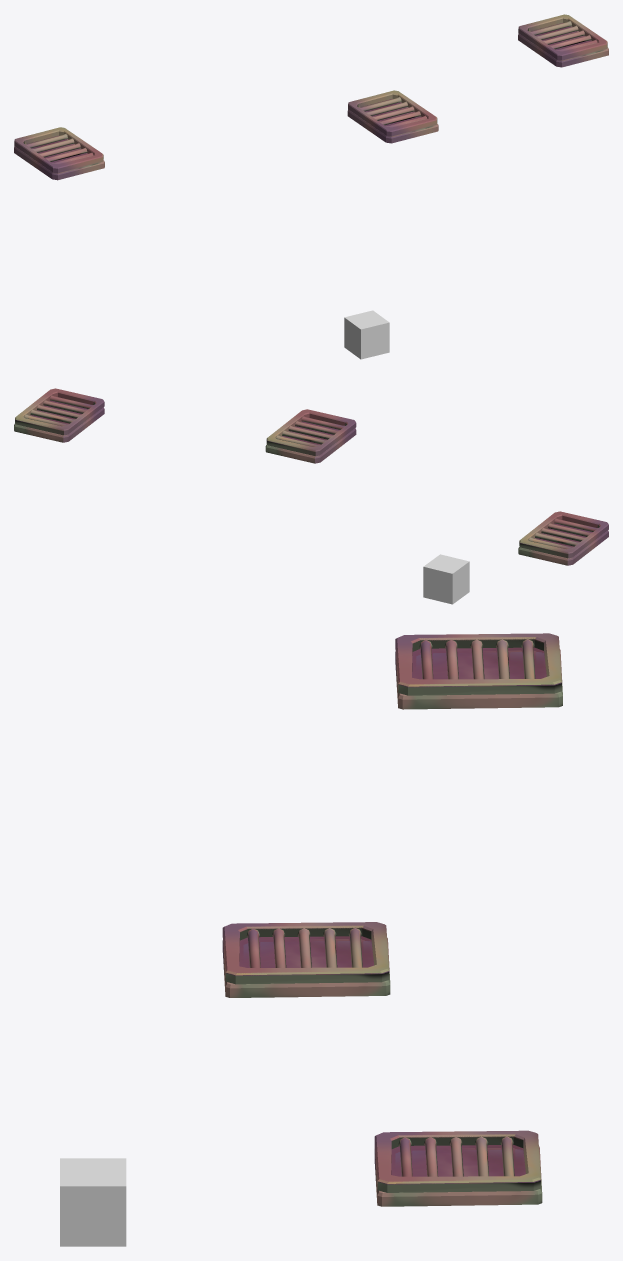
The model's file is battlescence-3-floor003.fbx.
3 views of the same model, one above another, from view 1: azimuth 30°, elevation 25°; view 2: azimuth 150°, elevation 25°; view 3: azimuth 270°, elevation 25° (orthographic). The views are drawn at different scales.
Visible parts, largest first — view 1: Cylinder.003, Cylinder.016, Cylinder.017, battlescence-3-floor003; view 2: Cylinder.003, Cylinder.016, Cylinder.017, battlescence-3-floor003; view 3: Cylinder.016, Cylinder.017, Cylinder.003, battlescence-3-floor003.
Part boxes in pixels (x1=…): Cylinder.003: x1=347, y1=90, x2=438, y2=143; Cylinder.016: x1=14, y1=127, x2=104, y2=180; Cylinder.017: x1=518, y1=14, x2=608, y2=67; battlescence-3-floor003: x1=344, y1=310, x2=389, y2=359; Cylinder.003: x1=265, y1=409, x2=356, y2=463; Cylinder.016: x1=518, y1=511, x2=608, y2=565; Cylinder.017: x1=14, y1=388, x2=104, y2=442; battlescence-3-floor003: x1=423, y1=554, x2=469, y2=604; Cylinder.016: x1=395, y1=633, x2=562, y2=709; Cylinder.017: x1=374, y1=1130, x2=542, y2=1206; Cylinder.003: x1=222, y1=922, x2=390, y2=997; battlescence-3-floor003: x1=60, y1=1158, x2=126, y2=1246.
Bounding box in the file's own units: 2264 × 719 × 892.
